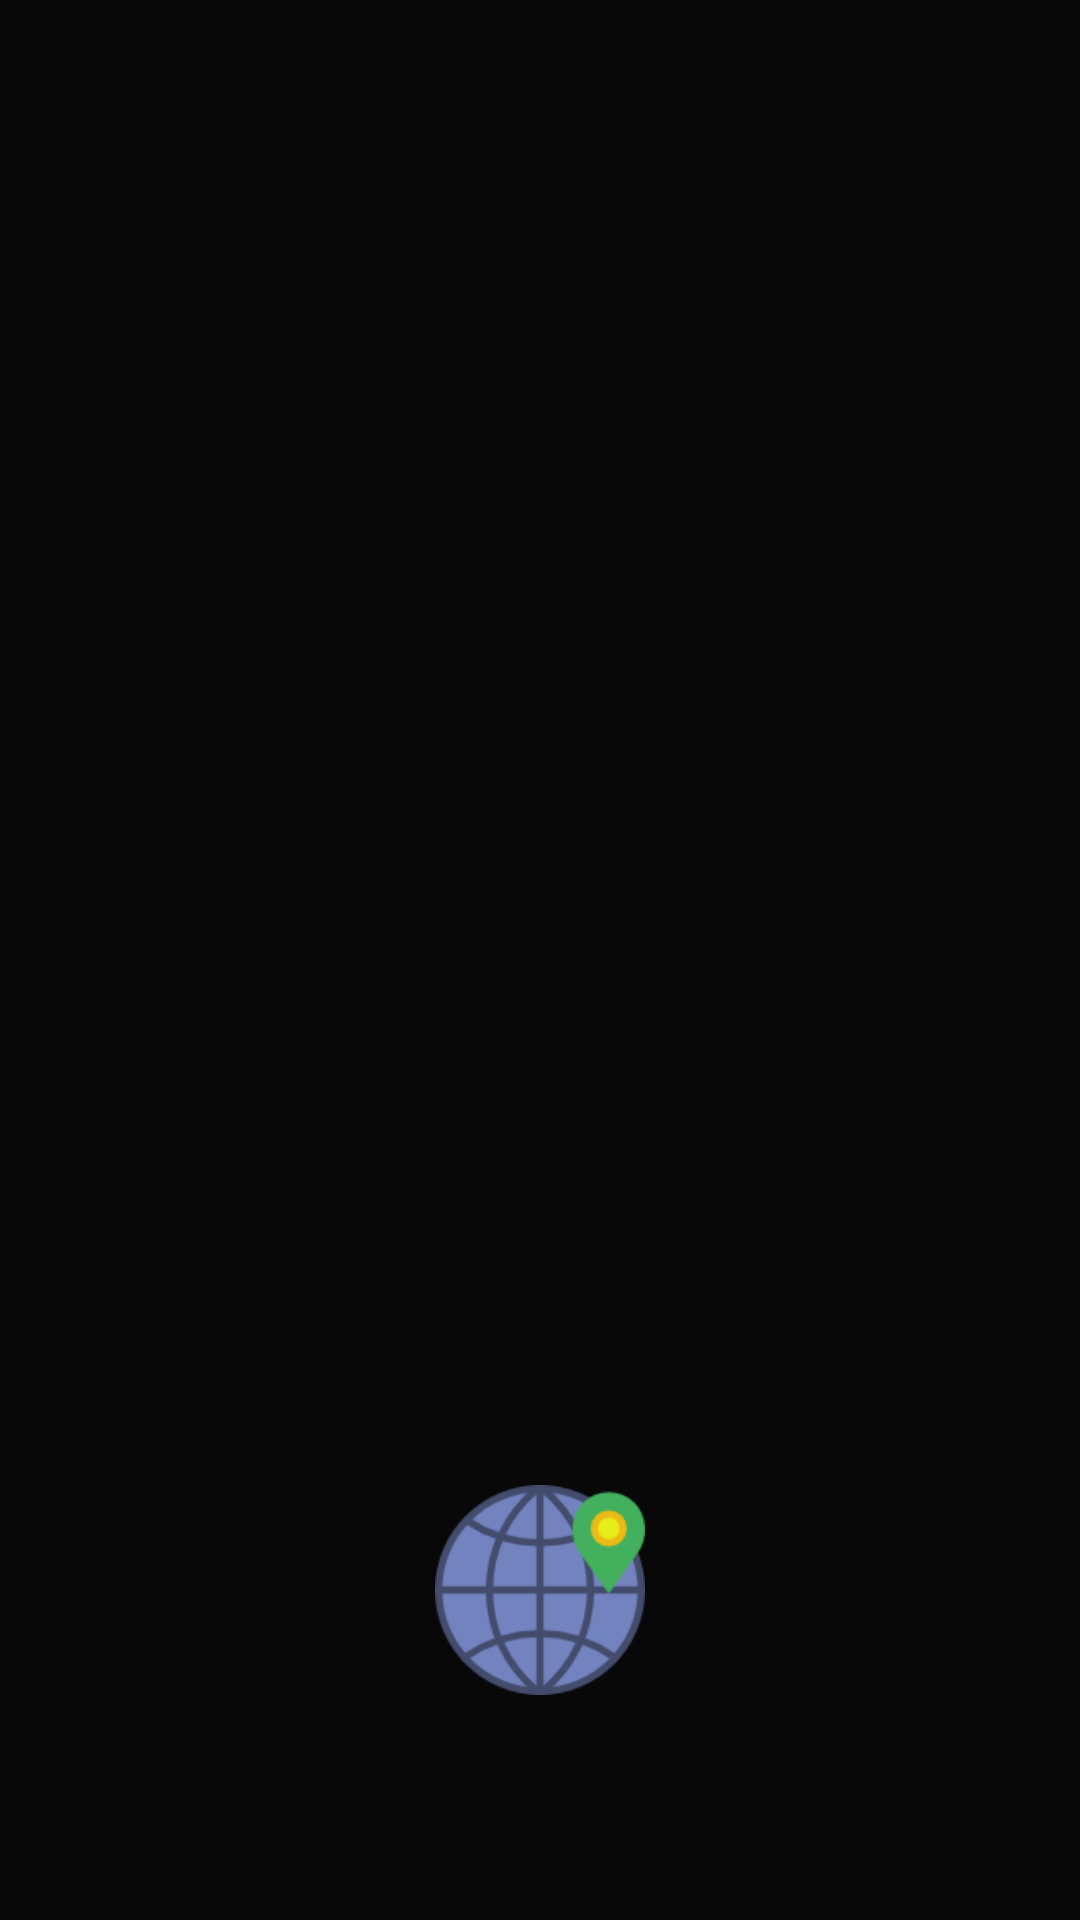

Icon click points for this 1080×1920 phone screenshot, format [x,y]:
worldwide: [540,1590]
